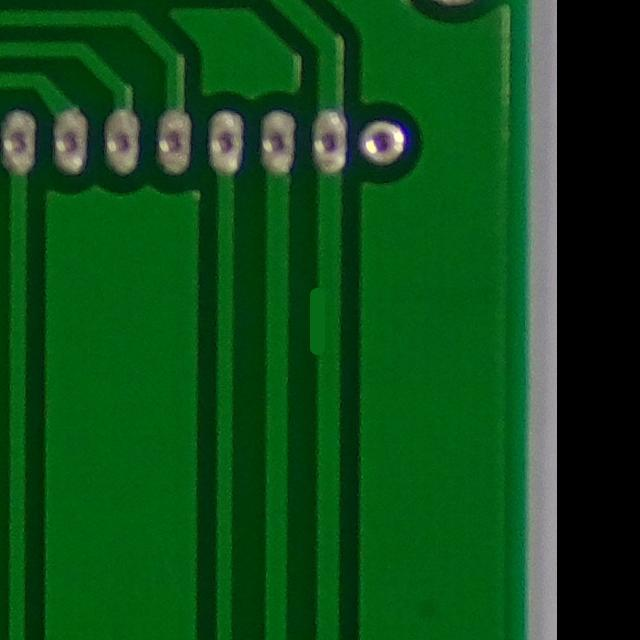spur: (295, 273, 345, 368)
